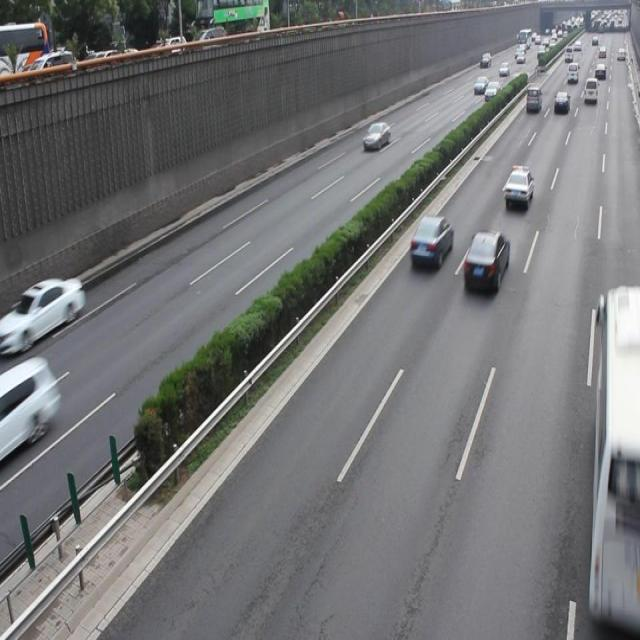car: (1, 354, 56, 462), (12, 276, 85, 352), (462, 228, 508, 292), (409, 214, 452, 270), (503, 167, 532, 210)
van: (589, 288, 640, 607)
